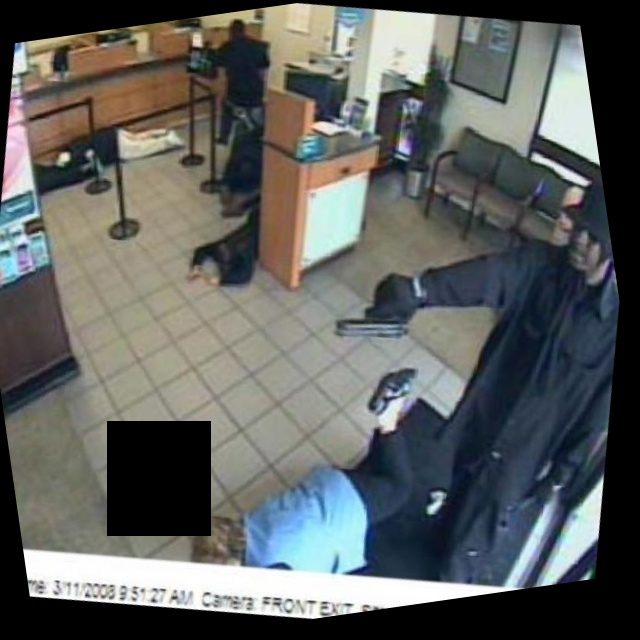gun: (310, 261, 440, 373)
